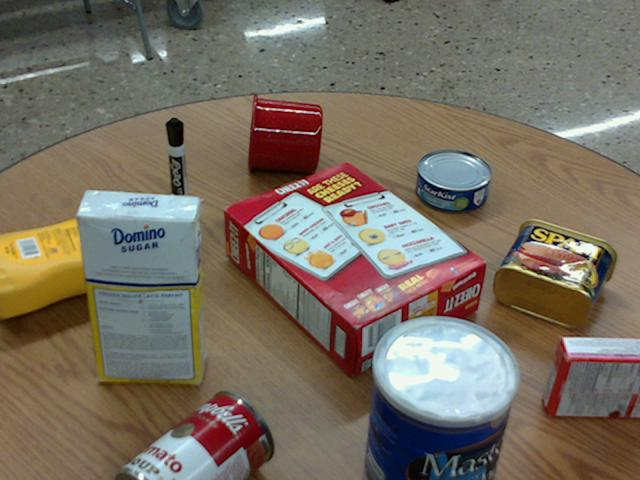cracker_box: (222, 162, 484, 371)
gelatin_box: (543, 336, 639, 416)
large_marker: (165, 118, 188, 219)
master_chef_can: (362, 316, 517, 479)
mug: (248, 93, 321, 172)
mustard_bottle: (0, 212, 182, 317)
potted_meat_can: (494, 218, 616, 328)
sugar_box: (75, 189, 202, 385)
tomato_soup_can: (116, 390, 273, 479)
tuna_fish_can: (416, 149, 491, 211)
